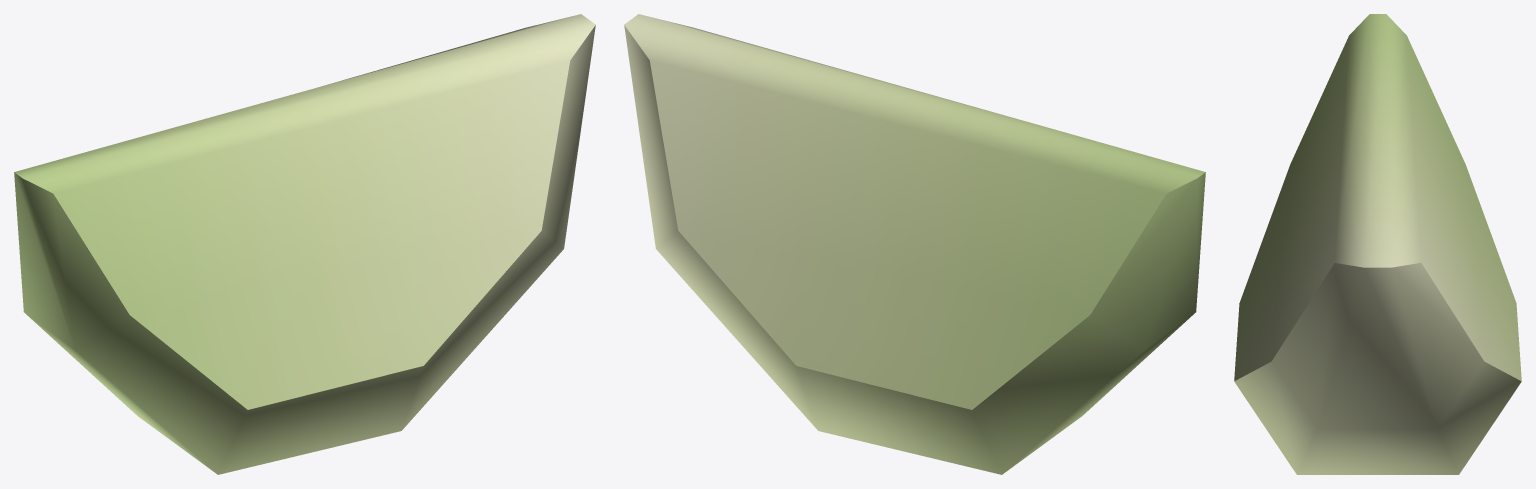
Rendered from Garlic_Slice_02.glb.
3 renders of one model, left to right at view 1: azimuth 30°, elevation 25°; view 2: azimuth 150°, elevation 25°; view 3: azimuth 270°, elevation 25°, orthographic. The views are drawn at different scales.
Visible parts, largest first — view 1: Garlic_Slice_02; view 2: Garlic_Slice_02; view 3: Garlic_Slice_02.
Part boxes in pixels (x1,y1,x2,y2): Garlic_Slice_02: [14, 14, 595, 474]; Garlic_Slice_02: [624, 14, 1205, 474]; Garlic_Slice_02: [1234, 14, 1521, 474].
Size of the model in its own units: 0.1024 by 0.0559 by 0.0461.
Materials: 1 (1 with a texture image).
